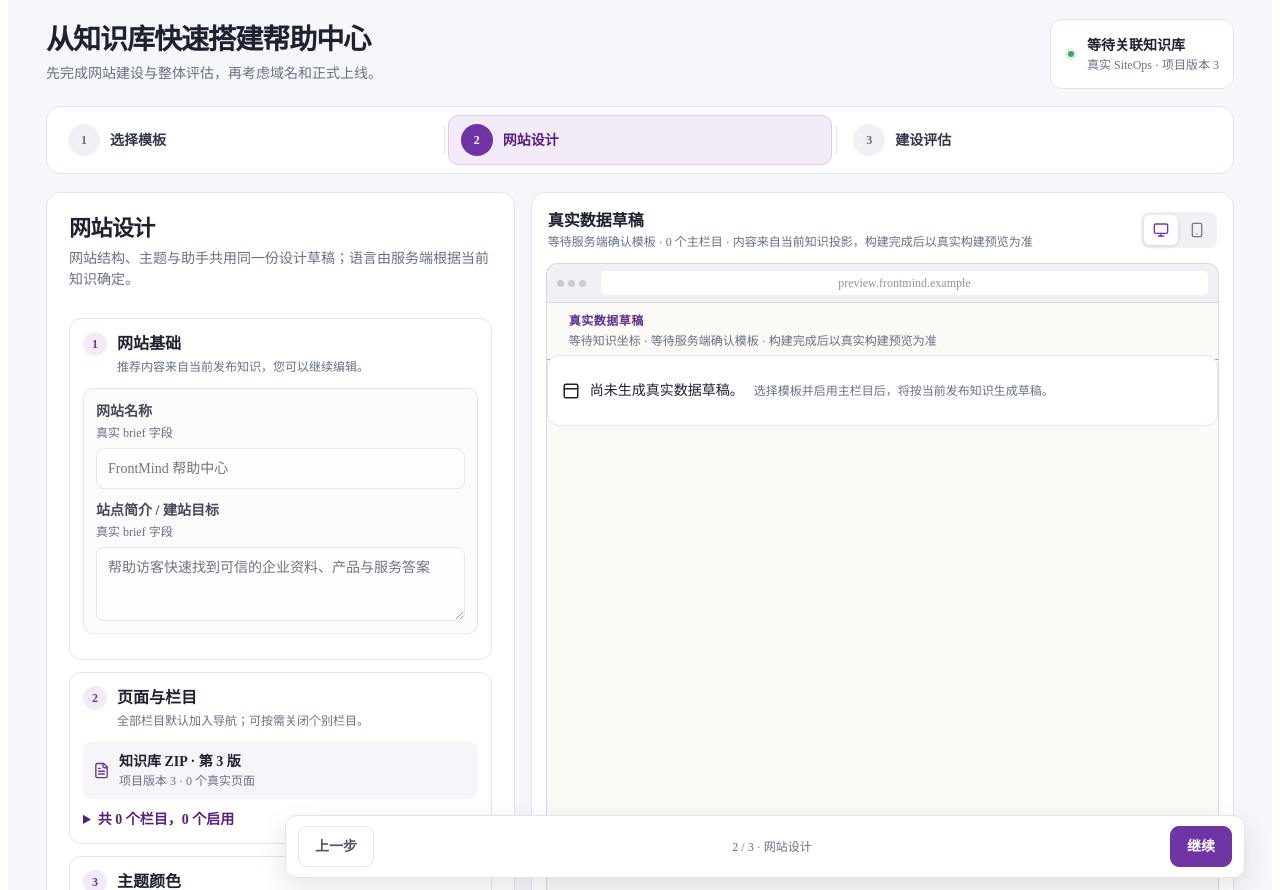
it: redesigned live website builder setup › isolates live drafts and RAG report provenance from preview storage
The image size is (1280, 890).
Check: the field labelled "网站名称" holds "FrontMind 帮助中心", box [96,448,465,489]
Click the button "3 建设评估": (869, 140) [840,116,1225,166]
(page scrolled)
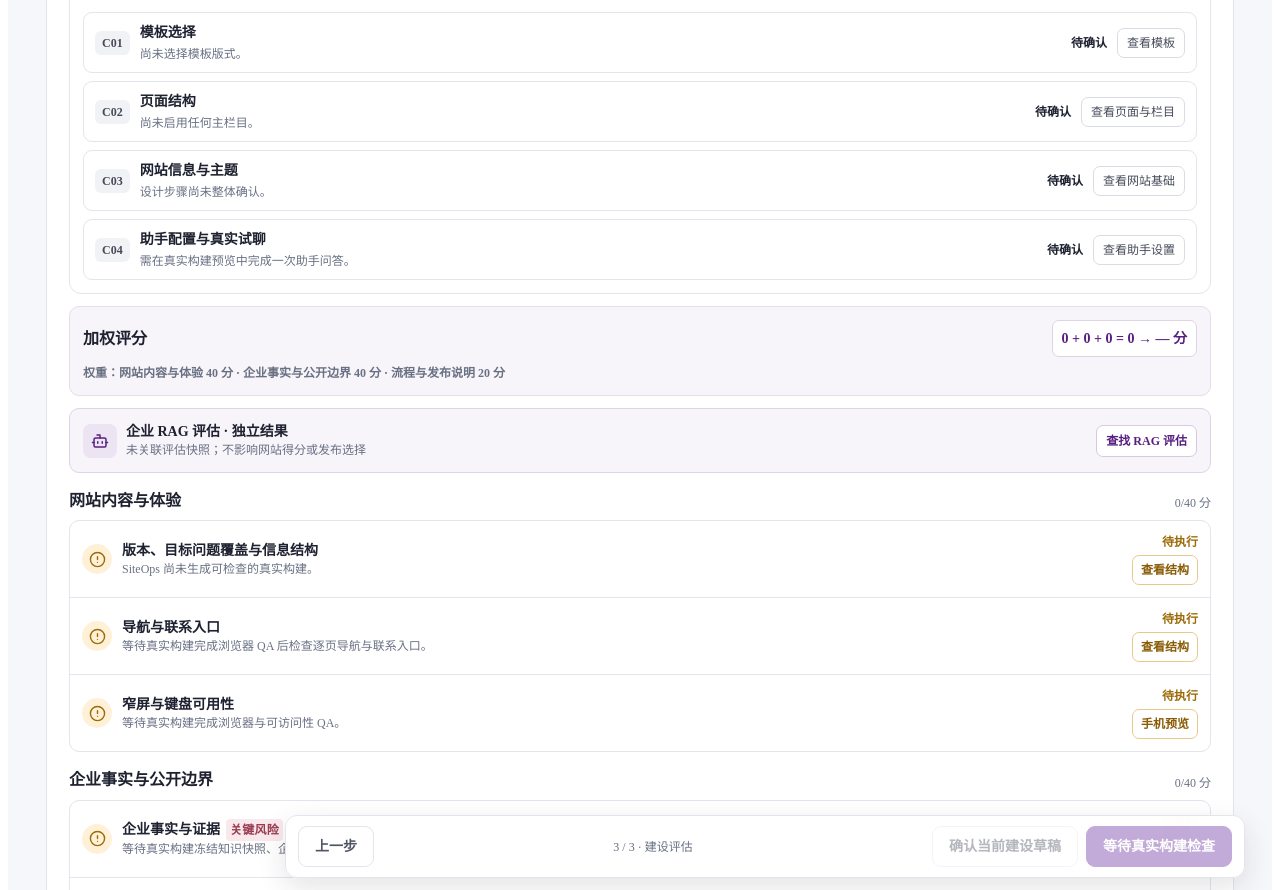
Check: the button "查找 RAG 评估" is shown
Click the button "查找 RAG 评估": (1147, 441) [1096,425,1197,457]
(page scrolled)
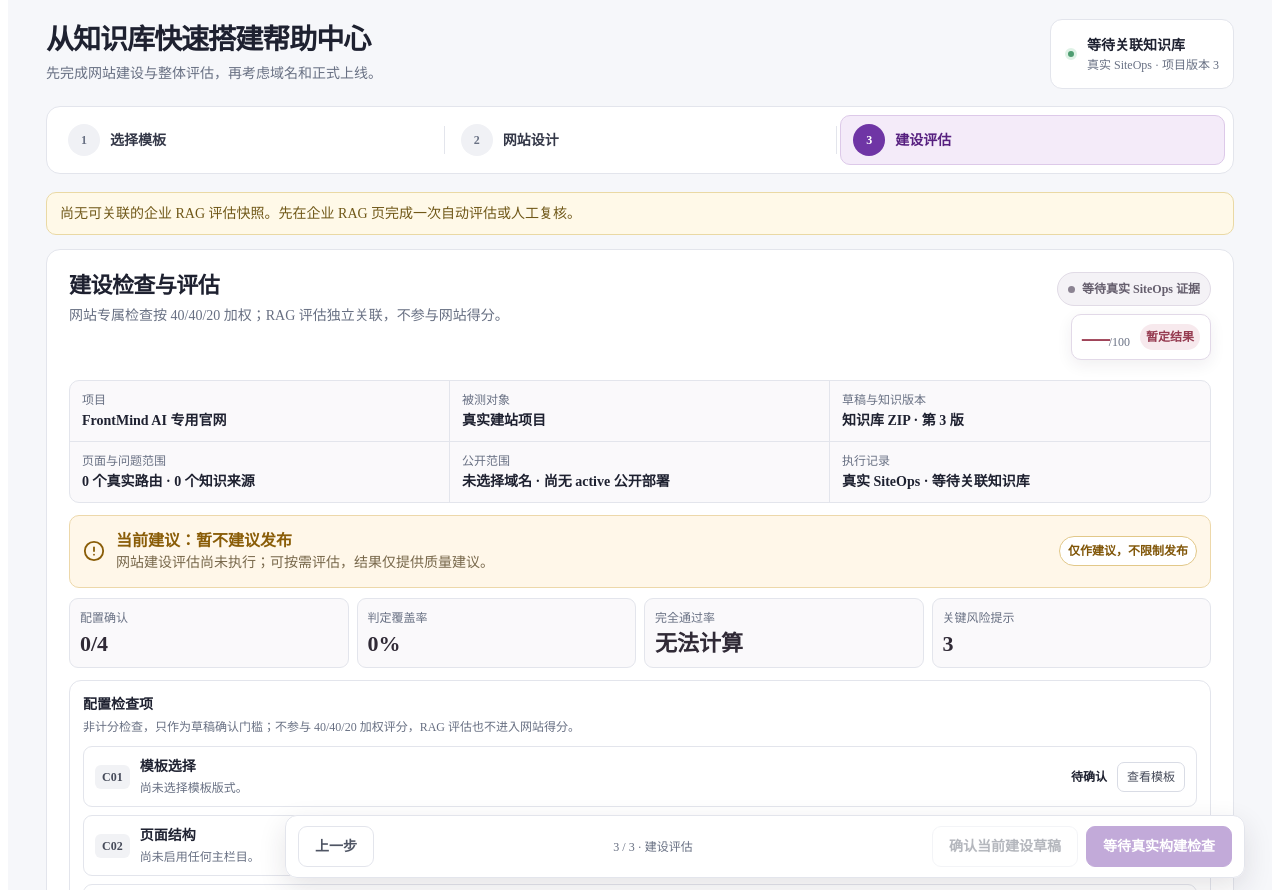
Check: the text "尚无可关联的企业 RAG 评估快照。先在企业 RAG 页完成一次自动评估或人工复核。" is shown, box [46,192,1234,236]
